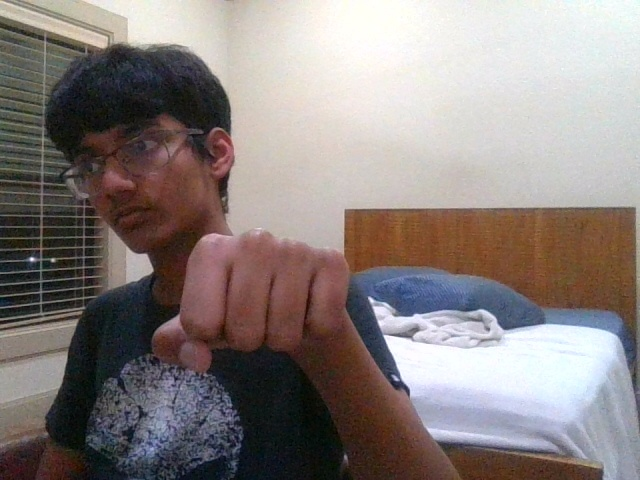yes: (154, 228, 348, 371)
